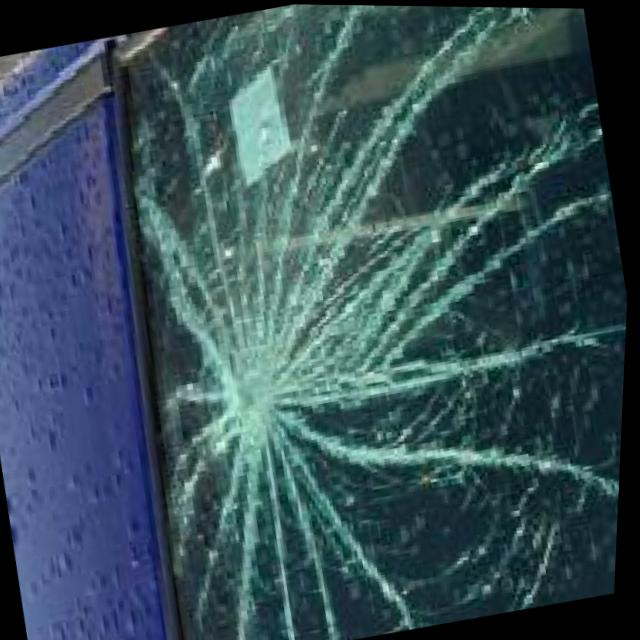Glass_Break: (196, 283, 336, 499)
